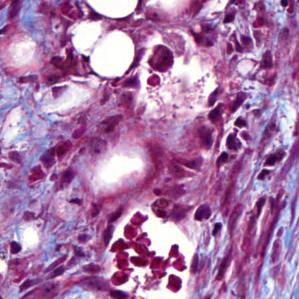steatosis: (85, 28, 138, 78)
